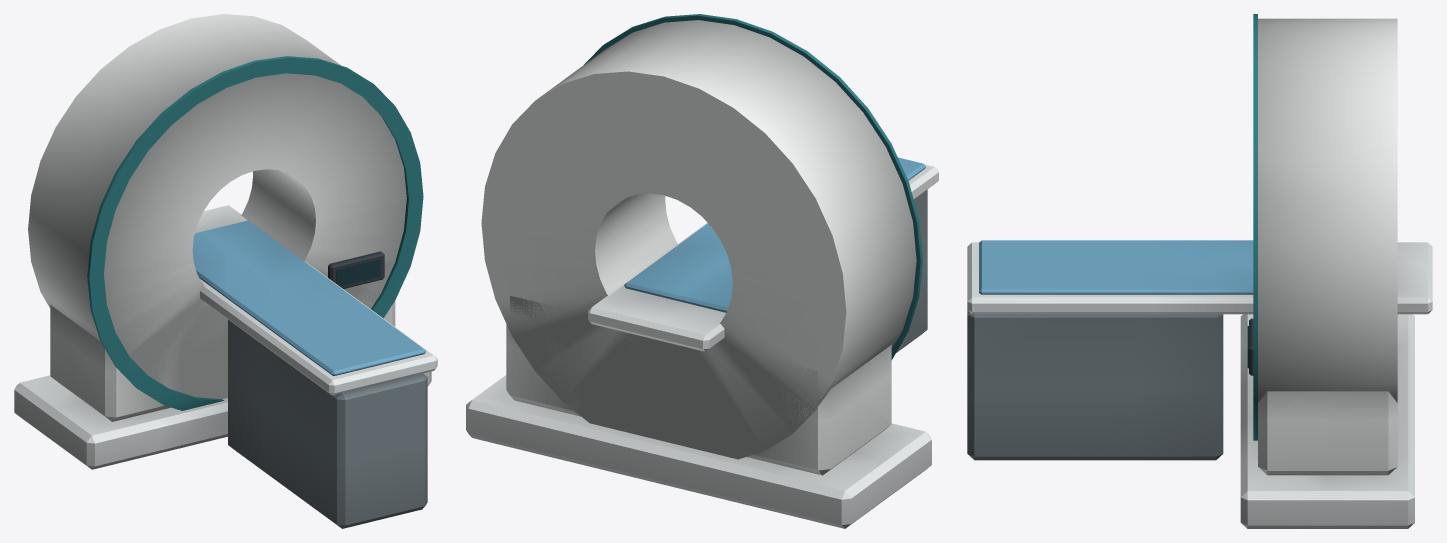
The picture shows the model from 3 angles, left to right: view 1: azimuth 30°, elevation 25°; view 2: azimuth 150°, elevation 25°; view 3: azimuth 270°, elevation 25°; orthographic projection. The views are drawn at different scales.
Visible parts, largest first — view 1: gantry, pedestal, pad, stripe, base, table, panel, screen; view 2: gantry, base, table, pad, stripe, pedestal; view 3: gantry, pedestal, pad, base, table, stripe.
Boxes of the visible parts, x1=… form: gantry: x1=28, y1=14, x2=406, y2=421; pedestal: x1=228, y1=319, x2=427, y2=528; pad: x1=192, y1=220, x2=425, y2=375; stripe: x1=87, y1=56, x2=423, y2=410; base: x1=14, y1=371, x2=431, y2=469; table: x1=195, y1=205, x2=437, y2=395; panel: x1=328, y1=251, x2=384, y2=288; screen: x1=336, y1=259, x2=380, y2=286; gantry: x1=481, y1=20, x2=916, y2=475; base: x1=466, y1=375, x2=931, y2=528; table: x1=588, y1=164, x2=938, y2=351; pad: x1=624, y1=157, x2=925, y2=312; stripe: x1=584, y1=14, x2=922, y2=359; pedestal: x1=896, y1=189, x2=927, y2=352; gantry: x1=1258, y1=18, x2=1397, y2=475; pedestal: x1=967, y1=310, x2=1223, y2=460; pad: x1=979, y1=240, x2=1253, y2=294; base: x1=1240, y1=314, x2=1414, y2=528; table: x1=967, y1=242, x2=1432, y2=314; stripe: x1=1253, y1=14, x2=1257, y2=440.
Size of the model in its own units: 1.9 by 1.92 by 2.
